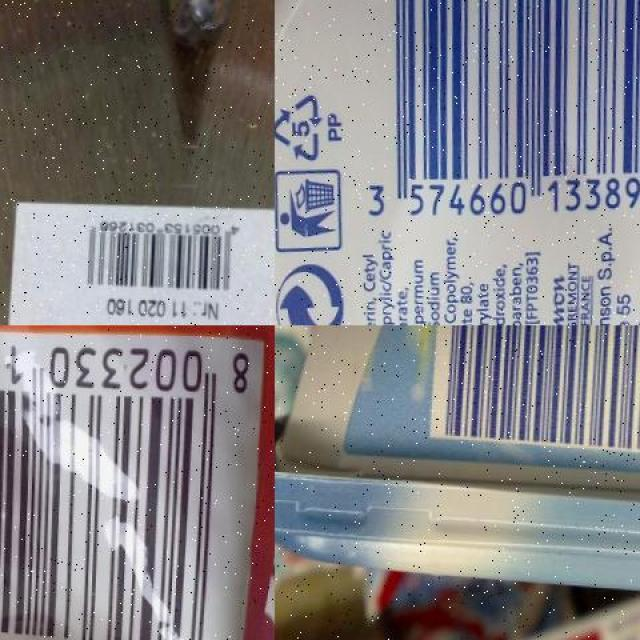Barcode: (0, 325, 265, 639), (356, 0, 640, 233), (432, 326, 640, 450), (77, 209, 252, 300)
